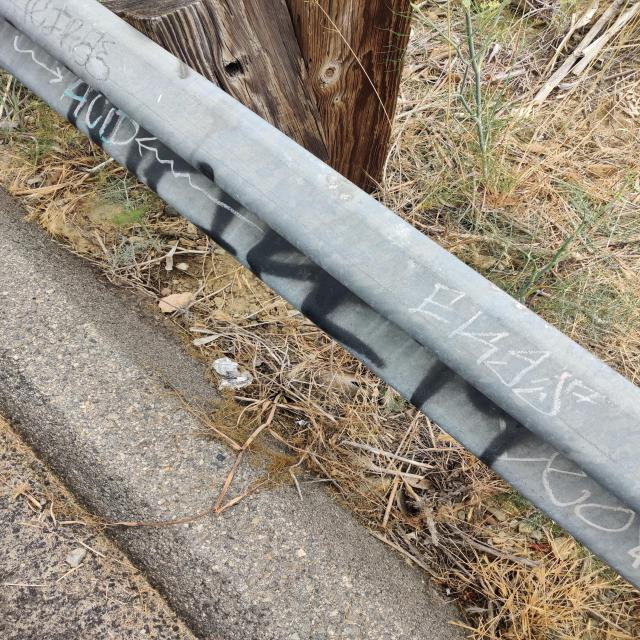litter: (210, 356, 249, 387)
